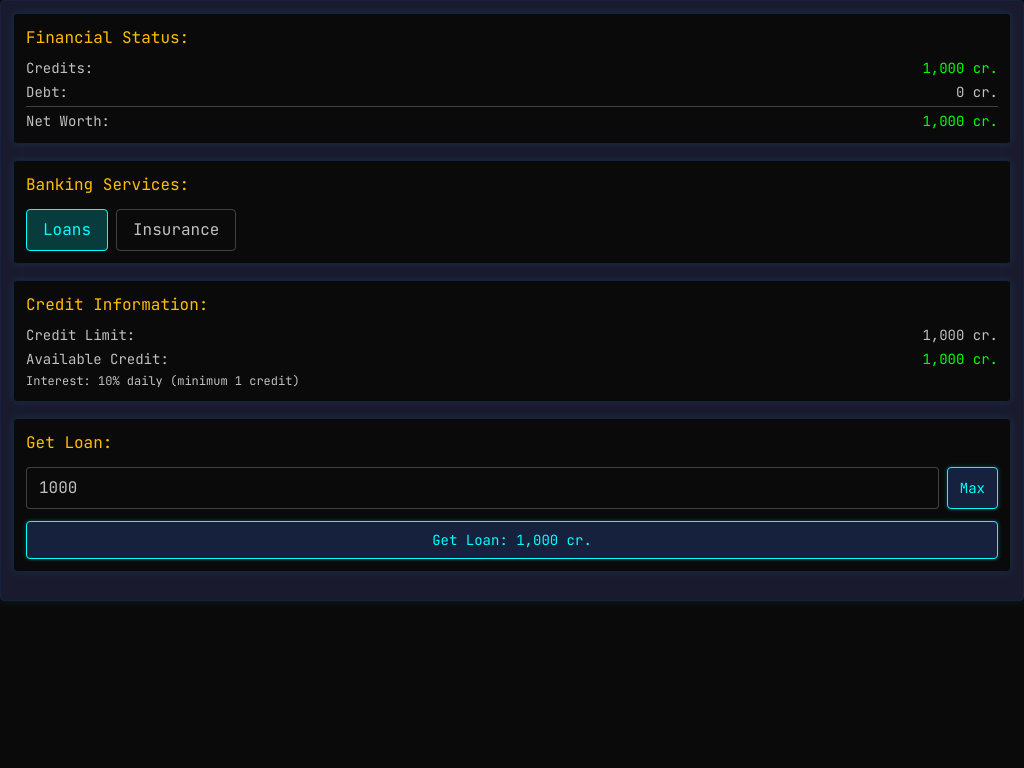
Test: BankScreen › Loans Tab › Get Loan › shows error when banking not available
Click the button with test id "get-loan-button": (512, 540) [26,521,998,559]
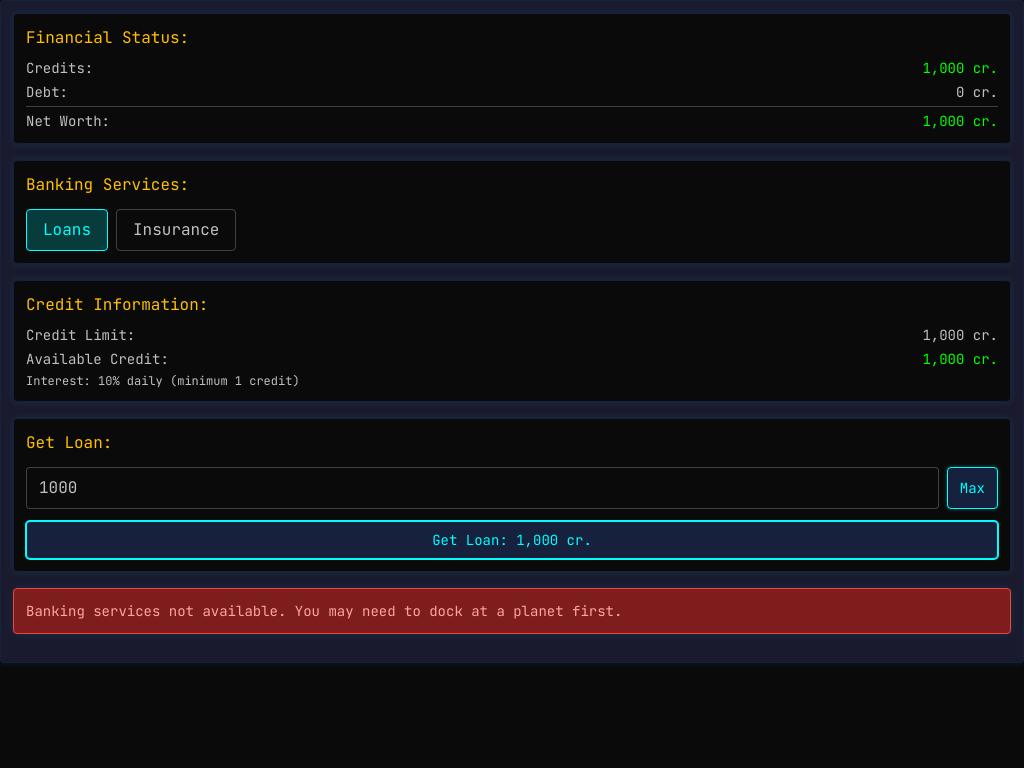
Result: the text with test id "message-text" shows "Banking services not available" at [26,602,622,620]
